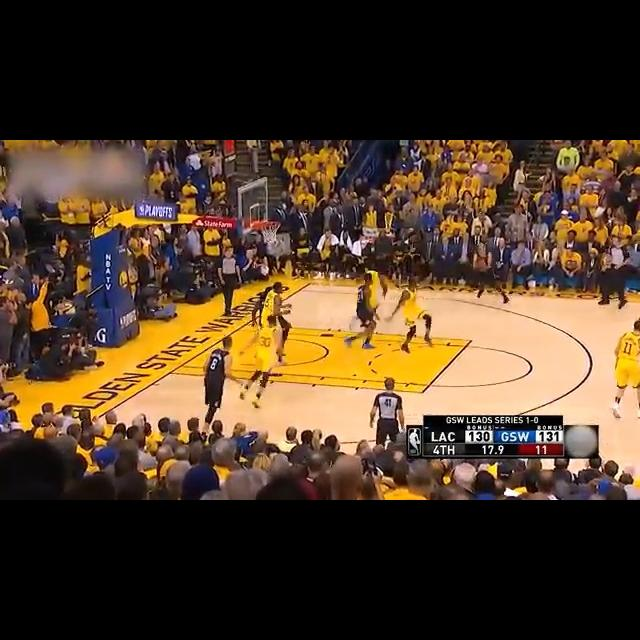hoop: (256, 209, 285, 251)
